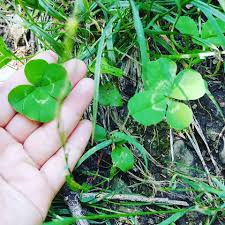4-clover: (130, 59, 206, 130), (11, 58, 71, 123)
